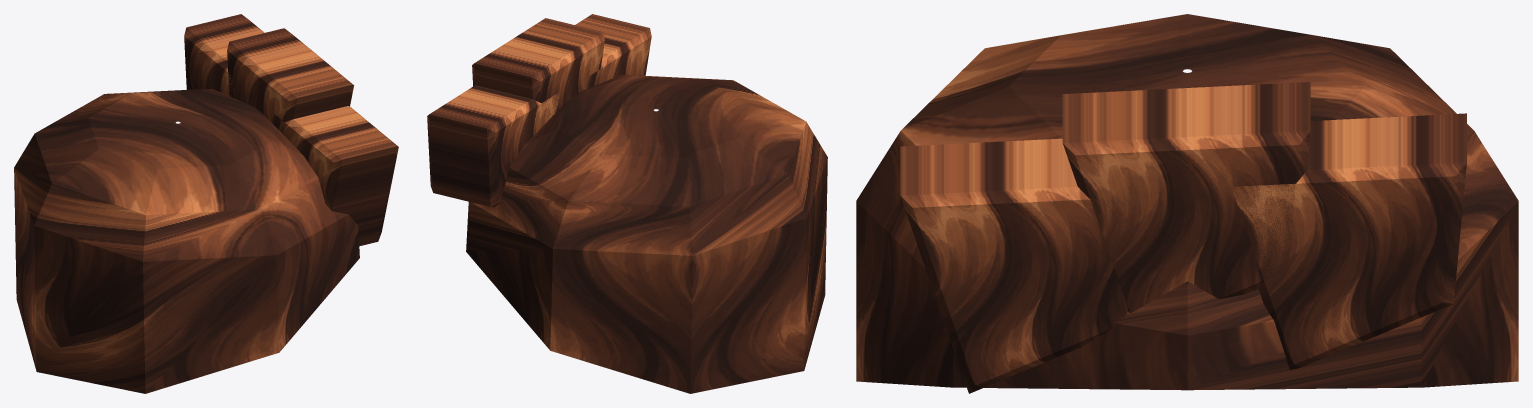
The model's file is hair.glb.
3 renders of one model, left to right at view 1: azimuth 30°, elevation 25°; view 2: azimuth 150°, elevation 25°; view 3: azimuth 270°, elevation 25°, orthographic. The views are drawn at different scales.
Parts seen in each view (by area): view 1: head; view 2: head; view 3: head.
Boxes of the visible parts, <box> form: head: <box>14,14,398,393</box>; head: <box>427,14,827,393</box>; head: <box>856,14,1518,393</box>.
Bounding box in the file's own units: 0.3607 × 0.2821 × 0.3723.
1 material, 1 textured.
